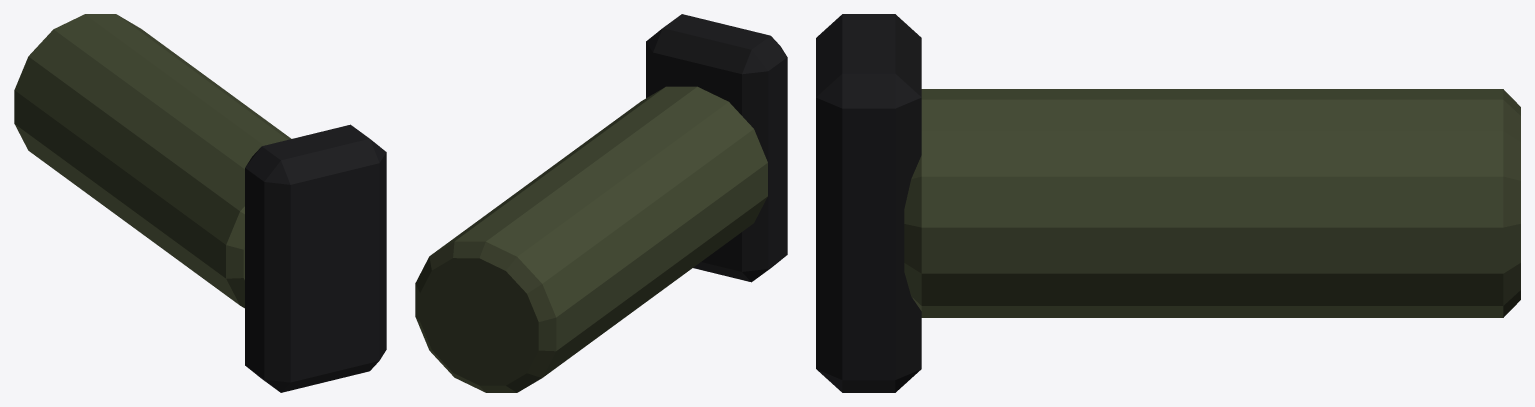
Rendered from foregrip.glb.
The picture shows the model from 3 angles, left to right: view 1: azimuth 30°, elevation 25°; view 2: azimuth 150°, elevation 25°; view 3: azimuth 270°, elevation 25°; orthographic projection. The views are drawn at different scales.
Visible parts, largest first — view 1: foregrip; view 2: foregrip; view 3: foregrip.
Boxes of the visible parts, bbox=[...] form: foregrip: bbox=[14, 14, 386, 392]; foregrip: bbox=[415, 14, 787, 392]; foregrip: bbox=[816, 14, 1520, 392].
Bounding box in the file's own units: 0.0253 × 0.04 × 0.08.
